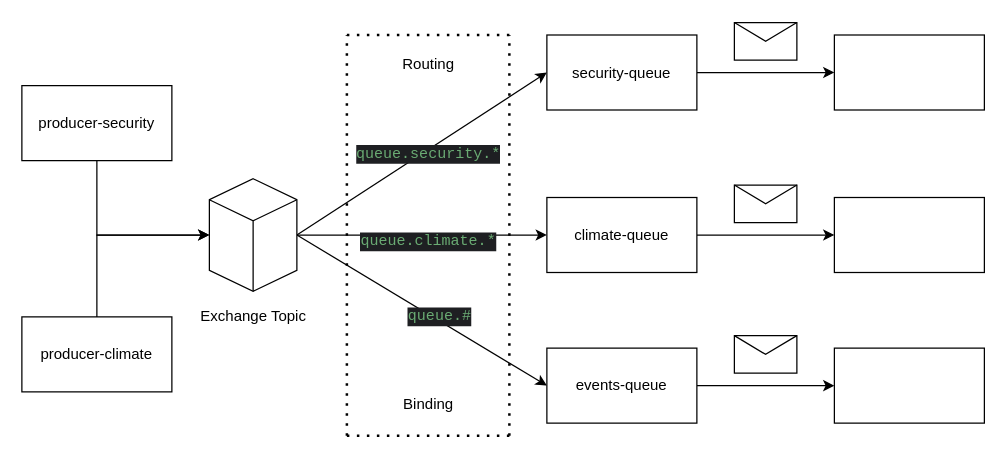
This 1006x459 diagram has some shape labels left out. Here are the shapes that lost their labels. From the top down, the centre of each, then its label:
At pixel 908 72: "consumer-security".
At pixel 908 234: "consumer-climate".
At pixel 908 385: "consumer-events".
